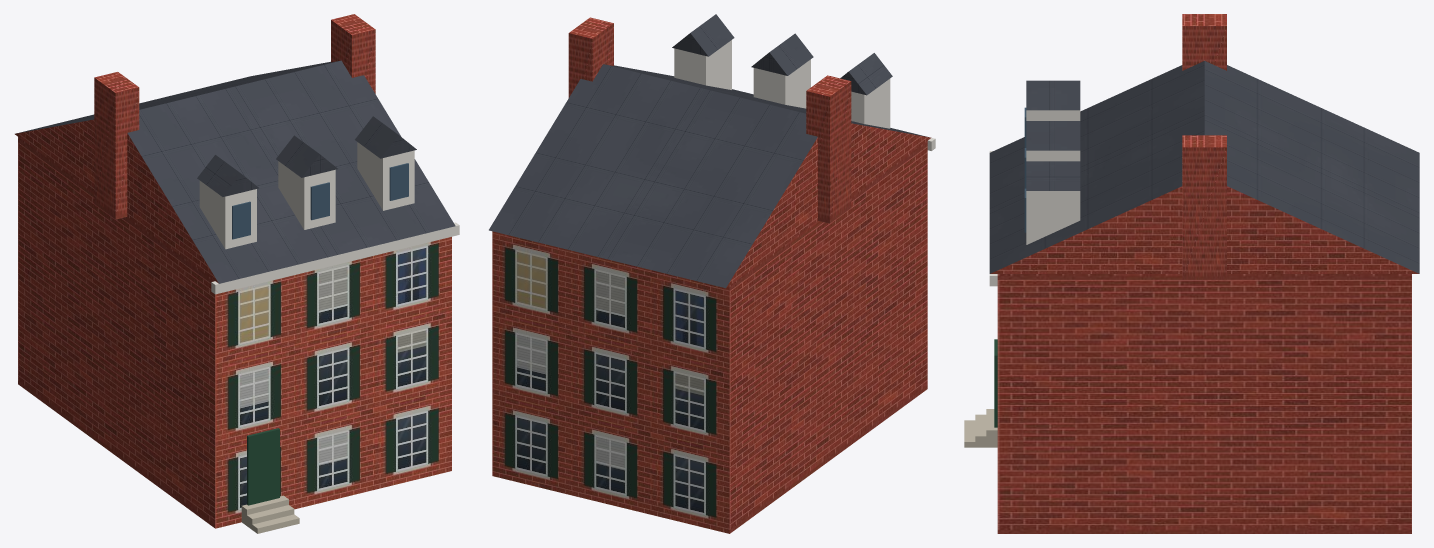
File: 014_federal_threestory.glb
3 renders of one model, left to right at view 1: azimuth 30°, elevation 25°; view 2: azimuth 150°, elevation 25°; view 3: azimuth 270°, elevation 25°, orthographic. The views are drawn at different scales.
Parts seen in each view (by area): view 1: 014_federal_threestory; view 2: 014_federal_threestory; view 3: 014_federal_threestory.
Boxes of the visible parts, box(x1,y1,x2,y2) form: 014_federal_threestory: box(15, 14, 459, 533); 014_federal_threestory: box(489, 14, 935, 533); 014_federal_threestory: box(964, 14, 1419, 533).
Bounding box in the file's own units: 9.9 × 13.6 × 14.3.
7 materials, 3 textured.
